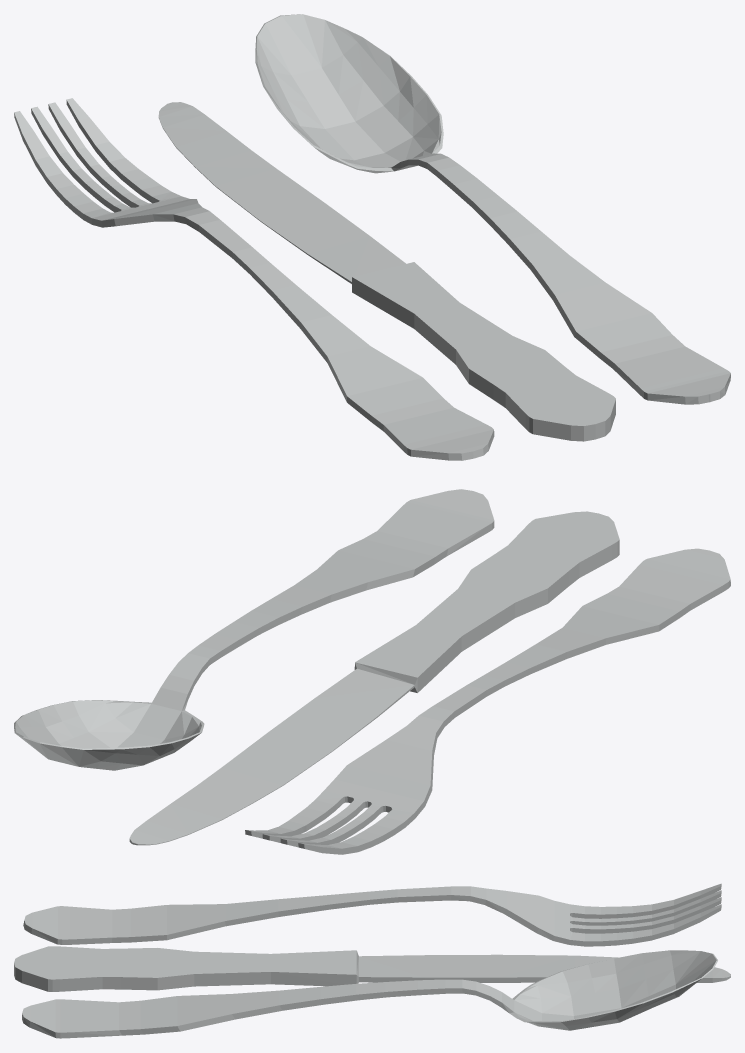
Rendered from Cutlery.obj.
The picture shows the model from 3 angles, top to bottom: view 1: azimuth 30°, elevation 25°; view 2: azimuth 150°, elevation 25°; view 3: azimuth 270°, elevation 25°; orthographic projection. The views are drawn at different scales.
Visible parts, largest first — view 1: Spoon002, Knife001, Fork002; view 2: Knife001, Spoon002, Fork002; view 3: Spoon002, Fork002, Knife001.
Boxes of the visible parts, left/top/right/bottom form: Spoon002: left=255, top=14, right=730, bottom=404; Knife001: left=158, top=102, right=615, bottom=441; Fork002: left=14, top=98, right=494, bottom=460; Knife001: left=129, top=511, right=619, bottom=845; Spoon002: left=14, top=489, right=494, bottom=770; Fork002: left=245, top=548, right=730, bottom=854; Spoon002: left=22, top=950, right=717, bottom=1038; Fork002: left=23, top=883, right=721, bottom=946; Knife001: left=14, top=946, right=730, bottom=991.
Bounding box in the file's own units: 3 × 0.6358 × 6.6.
